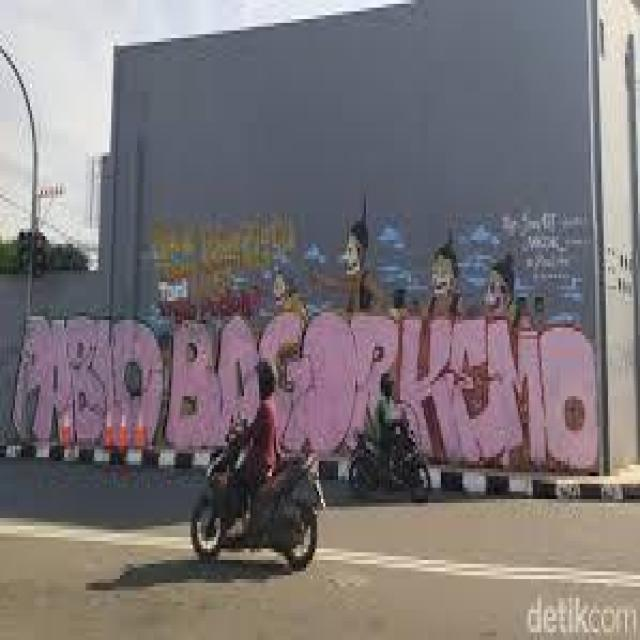nonspitting: (9, 308, 604, 464)
spitting: (310, 190, 386, 306), (418, 224, 464, 308), (479, 252, 514, 312)
